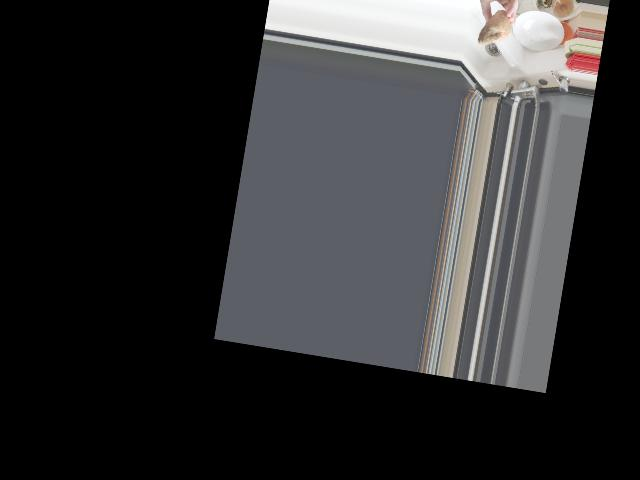sweet_potato: (474, 6, 514, 49)
